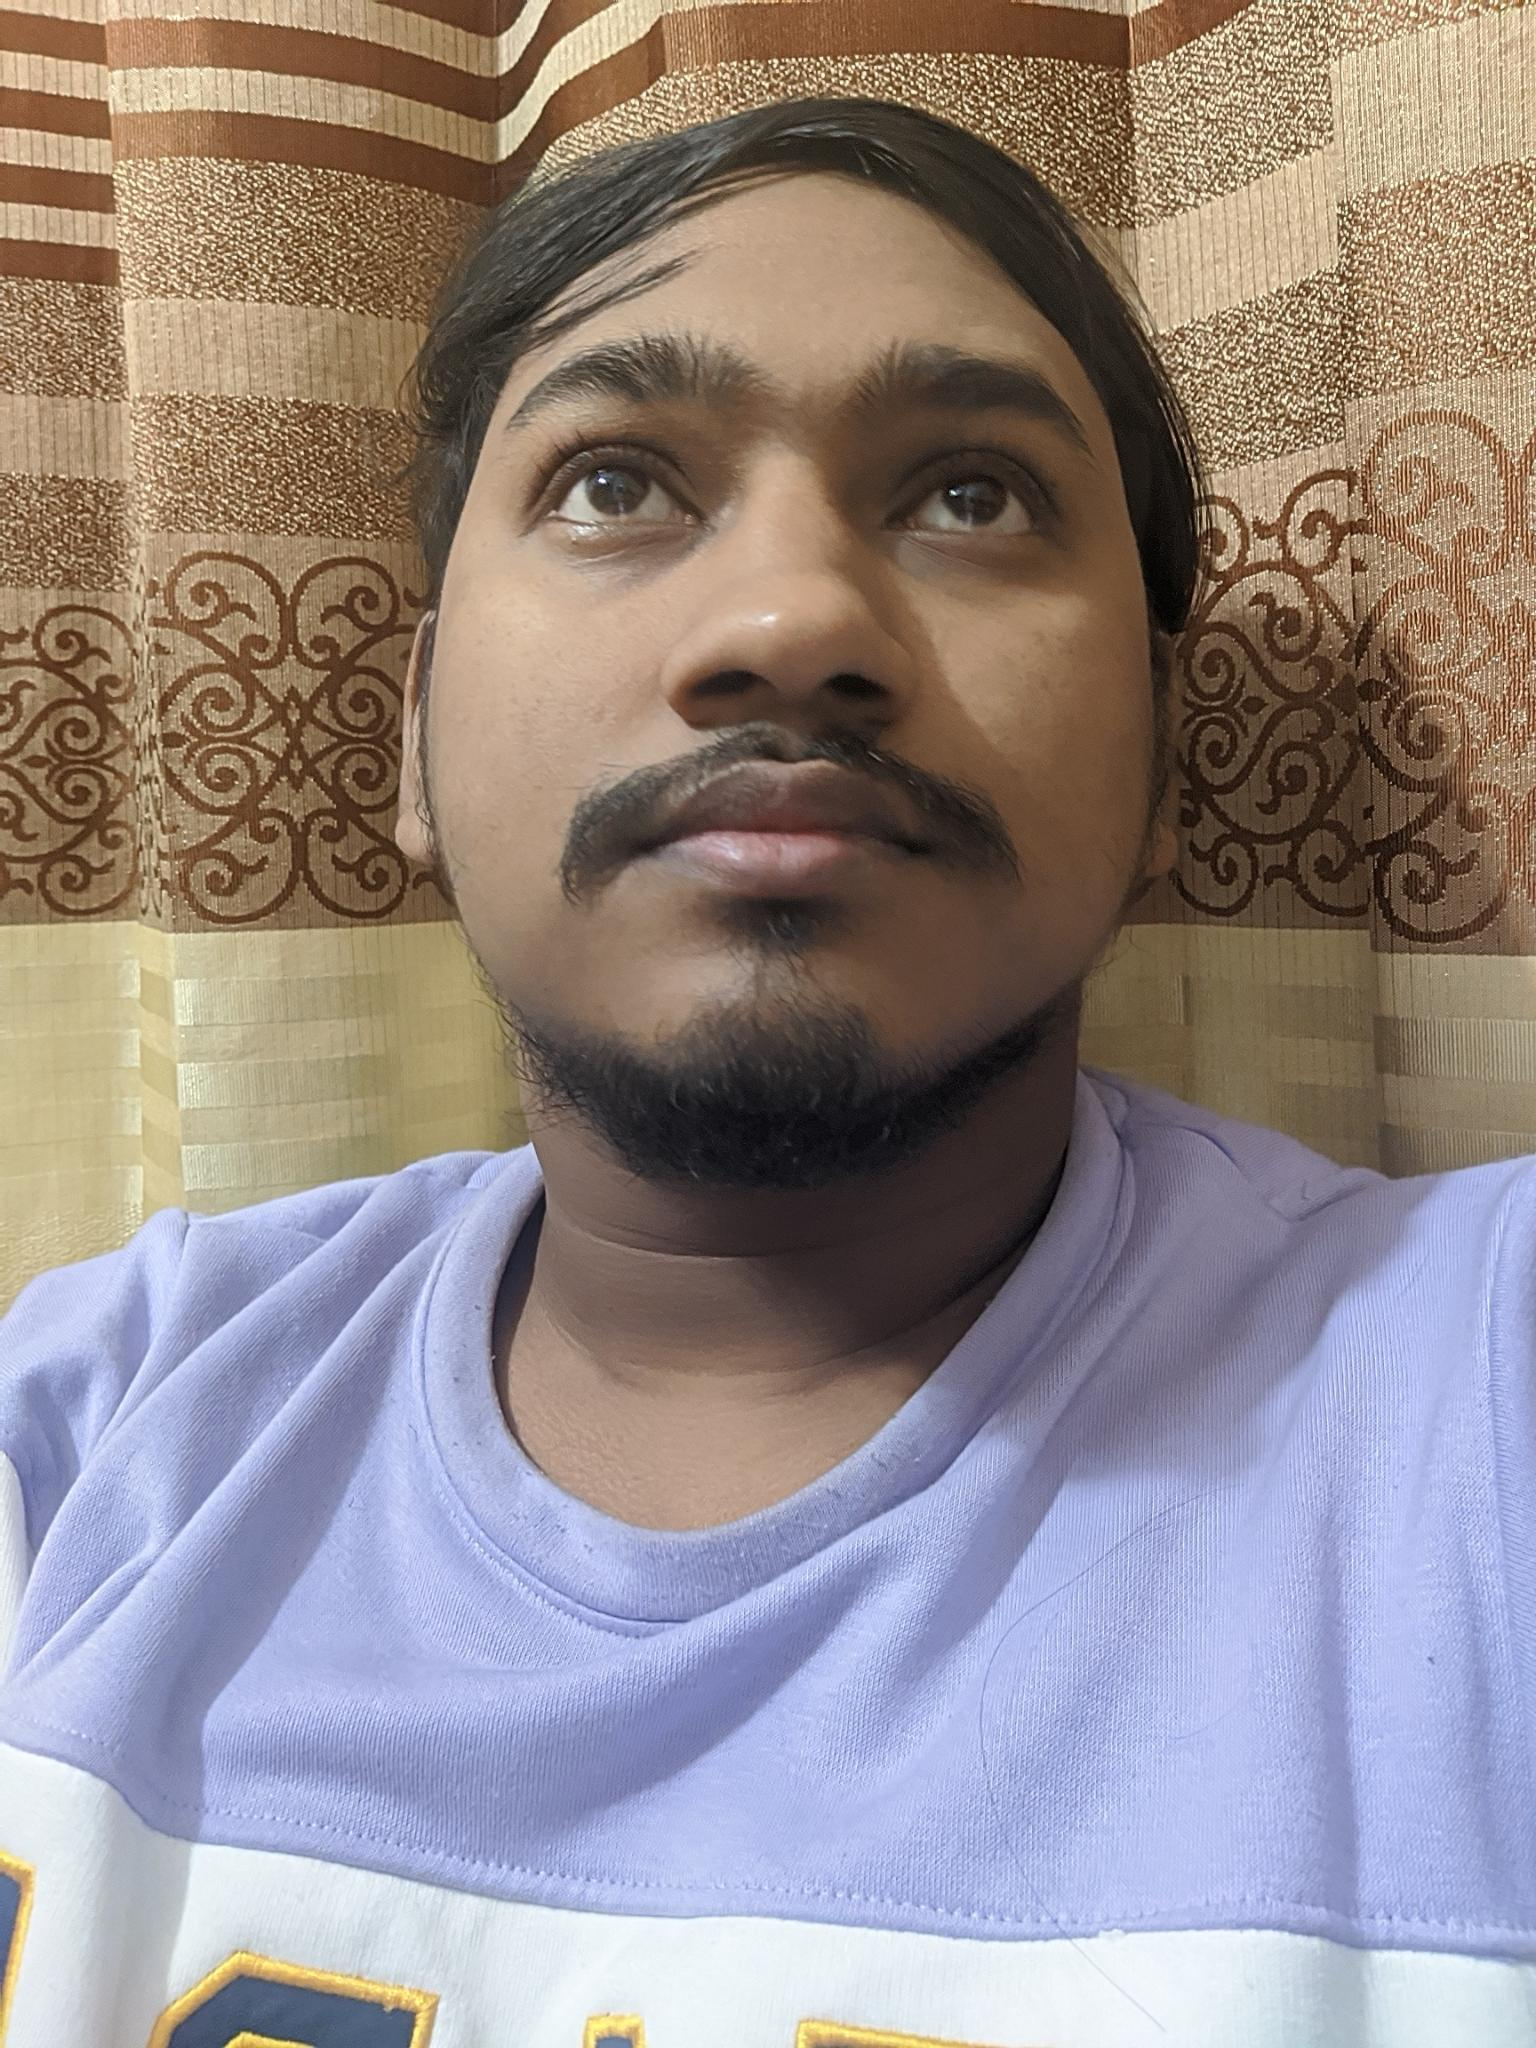Neutral: (450, 271, 1137, 1130)
